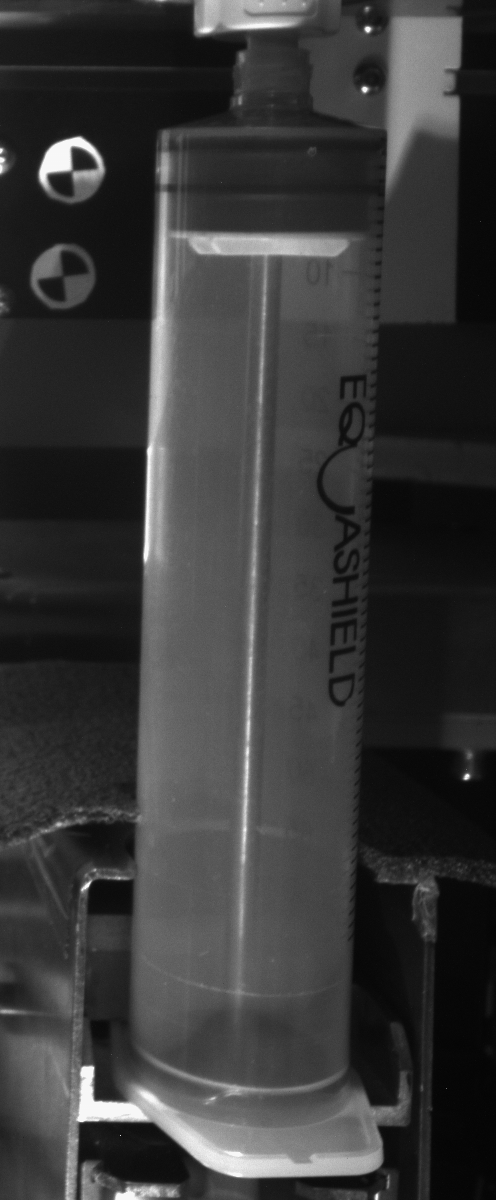piston: (152, 150, 389, 262)
